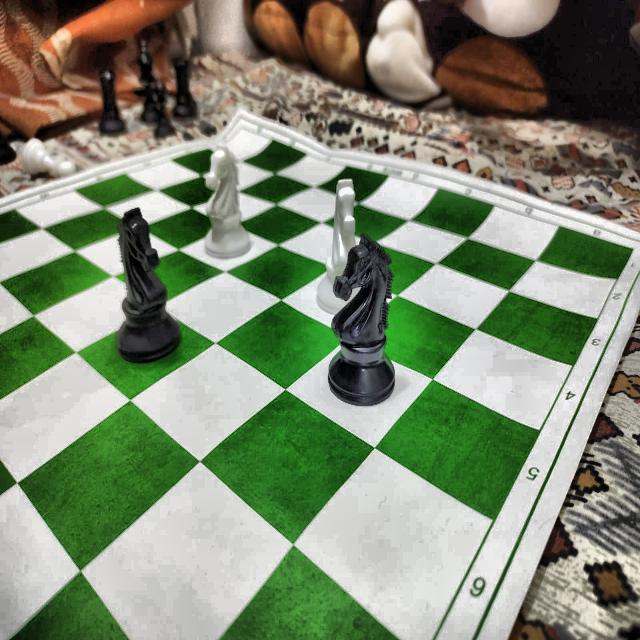BlackKnight: (328, 234, 398, 404), (118, 208, 181, 364)
WhiteKnight: (316, 176, 377, 314), (203, 146, 252, 258)
